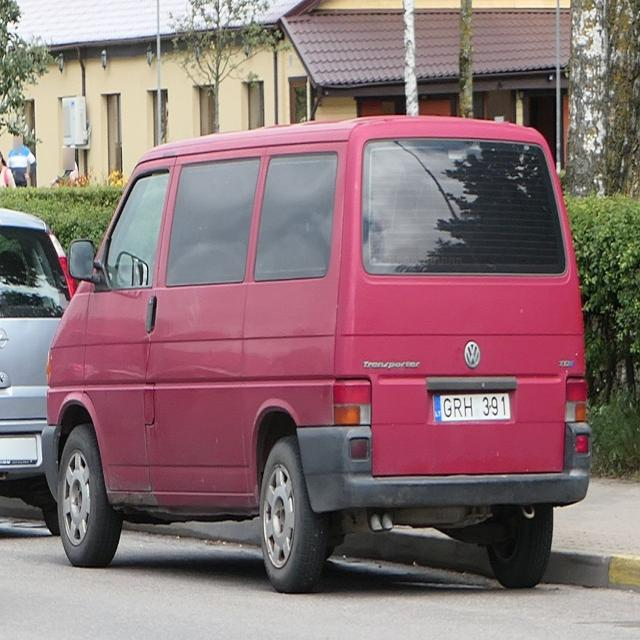License-plate: (432, 392, 510, 422)
